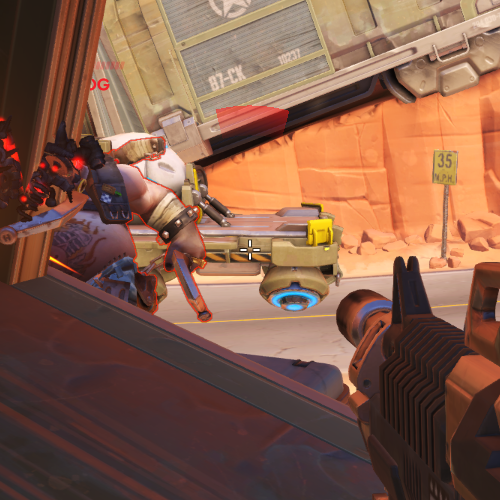hpbar: (92, 61, 125, 70)
